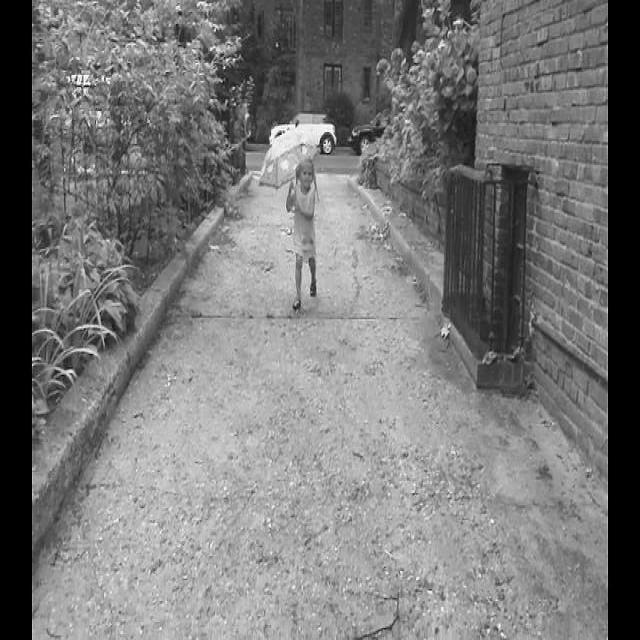vehicle: (268, 111, 337, 154), (345, 113, 391, 151), (243, 104, 257, 139)
